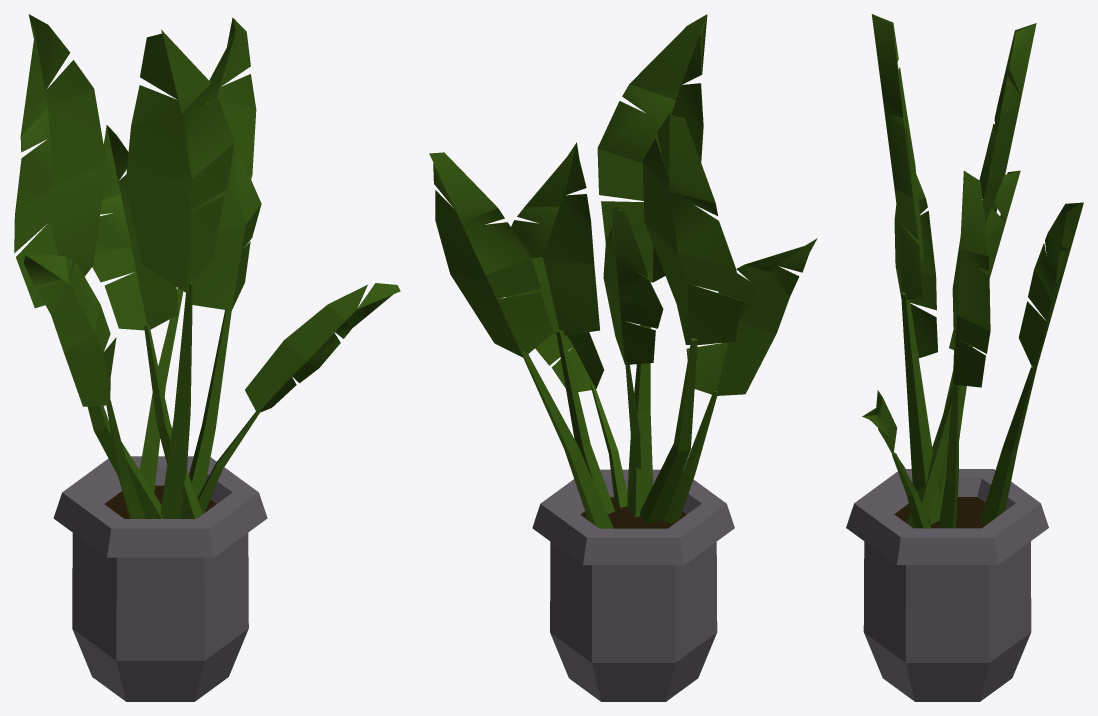
Rendered from Flower Pot.glb.
The picture shows the model from 3 angles, left to right: view 1: azimuth 30°, elevation 25°; view 2: azimuth 150°, elevation 25°; view 3: azimuth 270°, elevation 25°; orthographic projection. The views are drawn at different scales.
Visible parts, largest first — view 1: 3DGeom-3, 3DGeom-1; view 2: 3DGeom-3, 3DGeom-1, 3DGeom-2; view 3: 3DGeom-3, 3DGeom-1, 3DGeom-2.
Part boxes in pixels (bbox=[...]): 3DGeom-3: bbox=[14, 14, 400, 518]; 3DGeom-1: bbox=[53, 456, 267, 701]; 3DGeom-3: bbox=[429, 14, 817, 528]; 3DGeom-1: bbox=[532, 469, 734, 701]; 3DGeom-2: bbox=[580, 497, 686, 528]; 3DGeom-3: bbox=[862, 14, 1083, 528]; 3DGeom-1: bbox=[846, 469, 1048, 701]; 3DGeom-2: bbox=[894, 497, 985, 528].
Size of the model in its own units: 1.03 by 1.85 by 0.6182.
